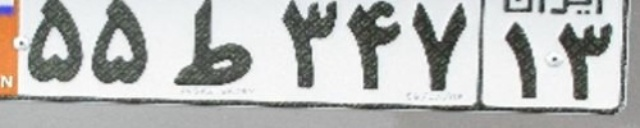1: (501, 20, 537, 96)
3: (281, 0, 337, 88), (557, 23, 612, 100)
4: (347, 0, 402, 90)
5: (25, 0, 83, 82), (93, 0, 148, 83)
7: (410, 1, 468, 91)
taa: (172, 0, 253, 85)
